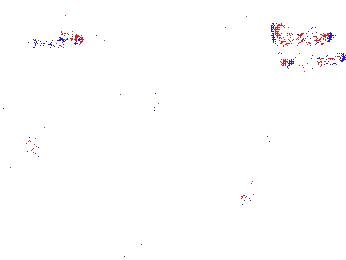X-ray fish: (238, 175, 272, 207), (21, 133, 57, 157)
glassfish: (191, 104, 299, 159), (143, 81, 160, 138)
red belly glassfish: (31, 32, 84, 49)
redtail glassfish: (270, 14, 336, 45), (283, 50, 346, 70)
